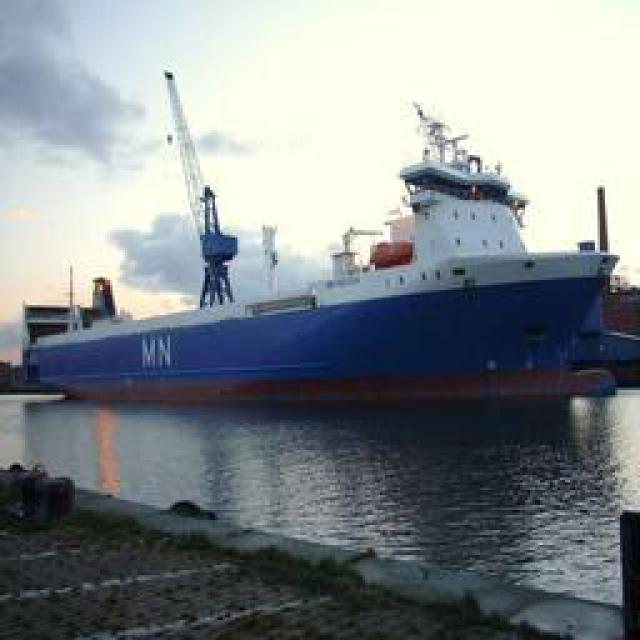Ship: (25, 94, 620, 404)
